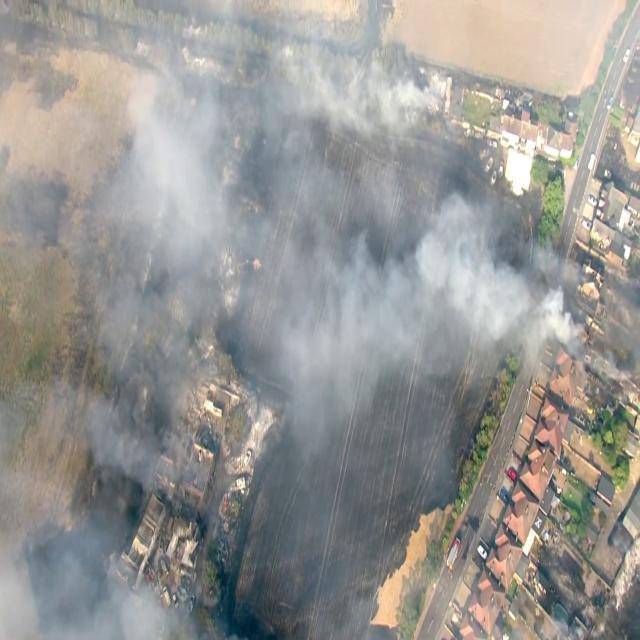Smoke: (415, 199, 538, 355), (133, 79, 232, 237)
